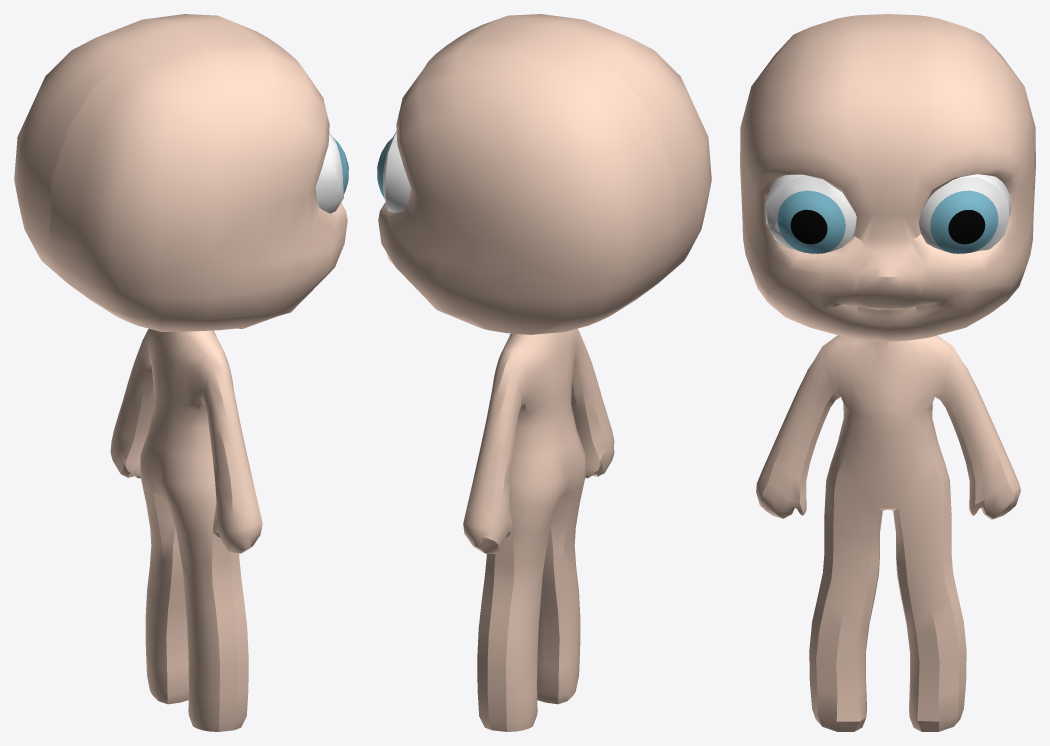
File: stickchild3.fbx
3 views of the same model, side by side, from view 1: azimuth 30°, elevation 25°; view 2: azimuth 150°, elevation 25°; view 3: azimuth 270°, elevation 25° (orthographic).
Visible parts, largest first — view 1: Plane.002; view 2: Plane.002; view 3: Plane.002.
Boxes of the visible parts, x1=… form: Plane.002: x1=14, y1=14, x2=348, y2=731; Plane.002: x1=377, y1=14, x2=711, y2=731; Plane.002: x1=740, y1=14, x2=1035, y2=731.
Size of the model in its own units: 1482 by 3532 by 1382.
